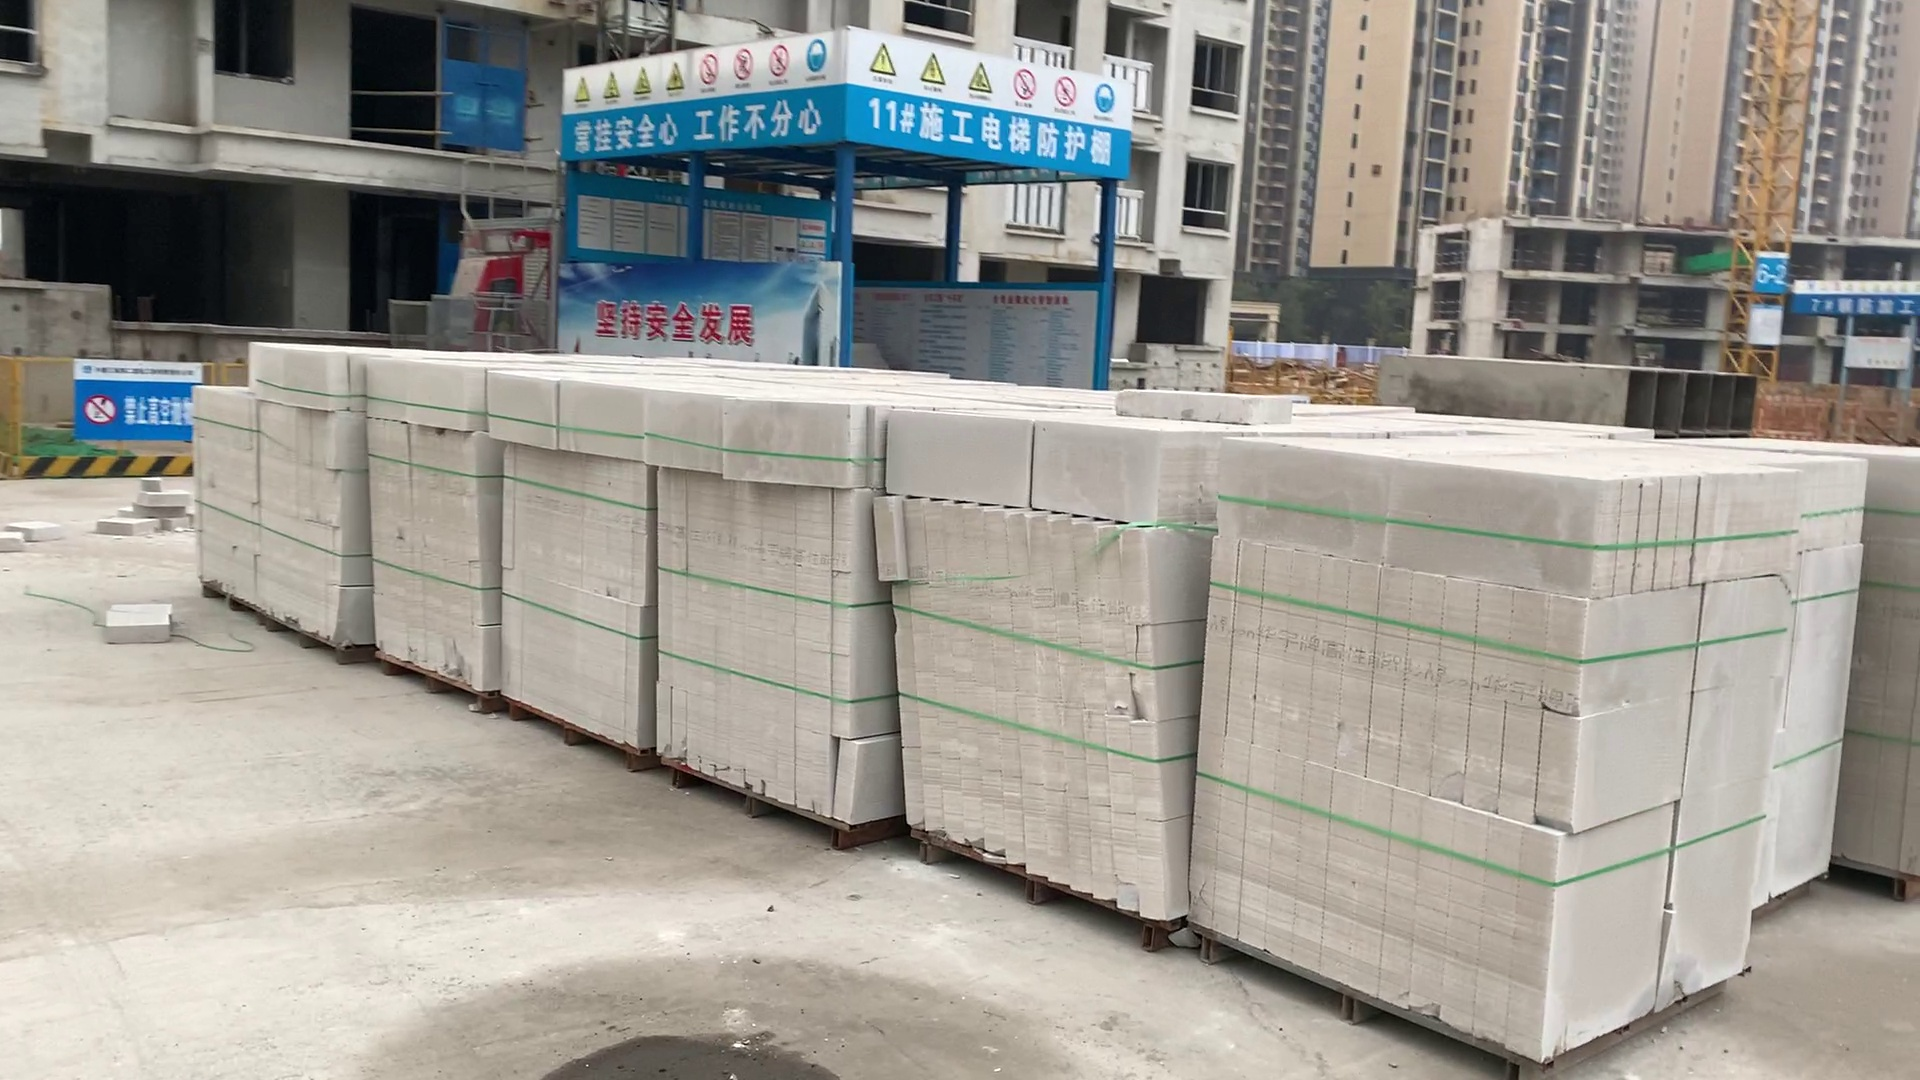brickwork: (1200, 426, 1758, 1072), (881, 414, 1199, 924), (654, 386, 872, 843), (496, 373, 657, 742), (193, 342, 361, 645), (360, 357, 506, 703), (1764, 444, 1846, 909), (1847, 454, 1920, 881)
